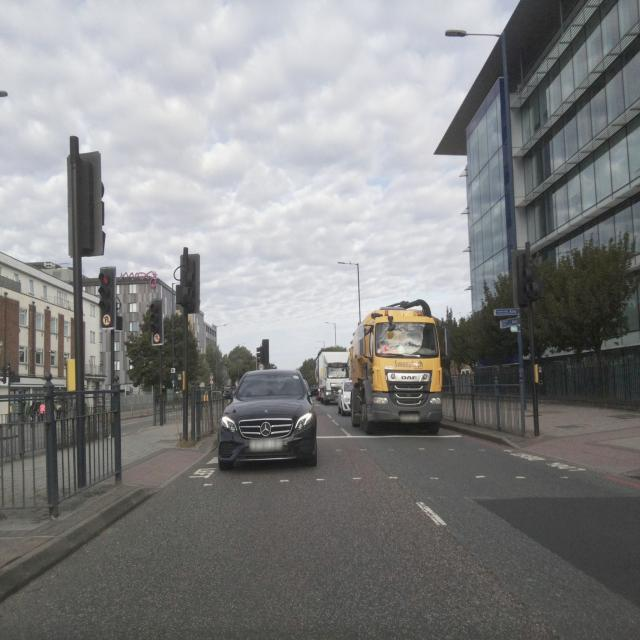car: (217, 367, 318, 470), (337, 380, 354, 415)
